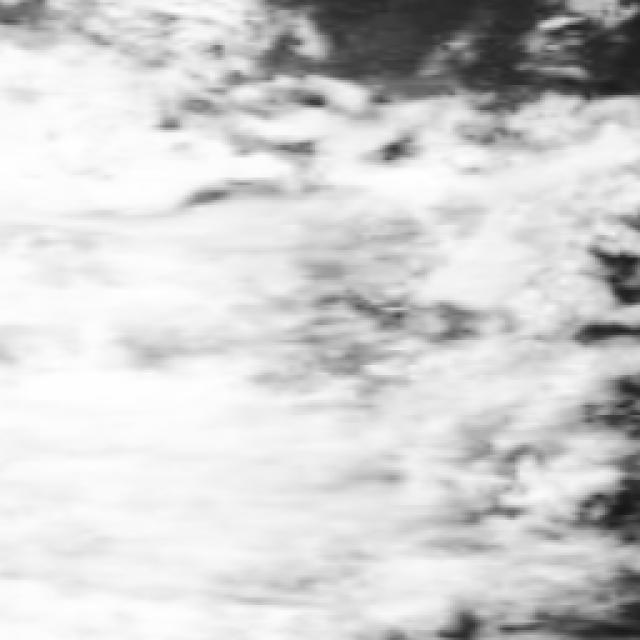CB: (150, 352, 330, 563), (0, 346, 163, 549), (165, 188, 347, 366), (0, 484, 201, 640), (0, 178, 165, 362), (192, 487, 380, 640), (0, 50, 155, 203)
